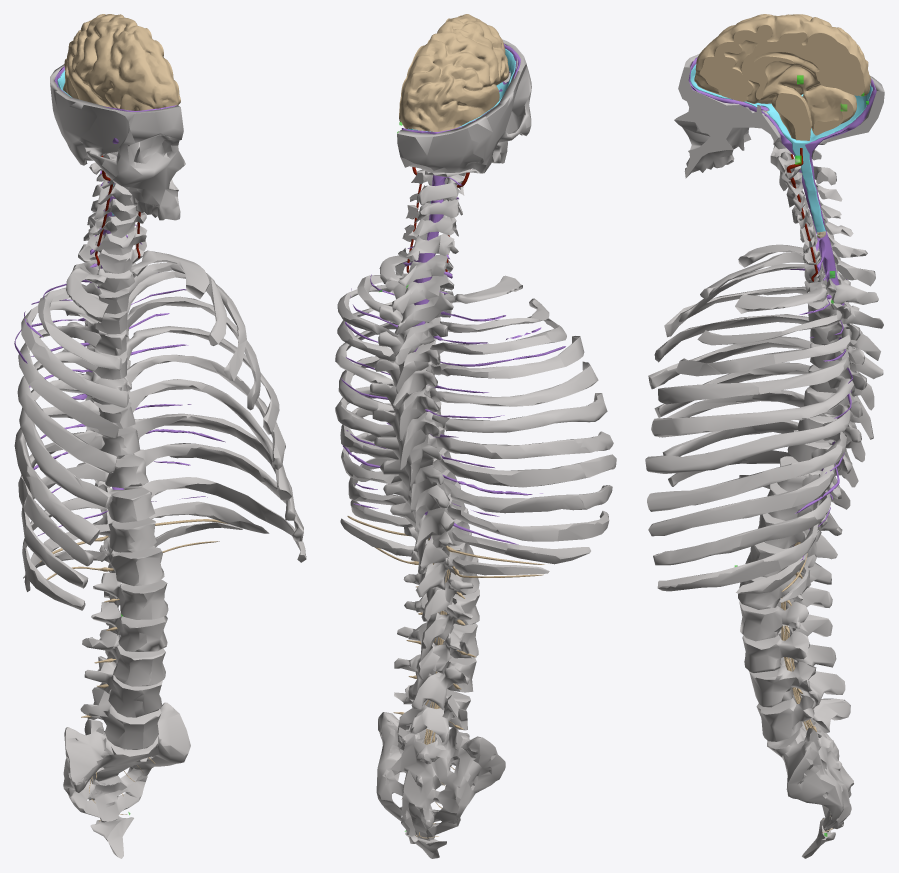
The model's file is spinal-cord.glb.
3 renders of one model, left to right at view 1: azimuth 30°, elevation 25°; view 2: azimuth 150°, elevation 25°; view 3: azimuth 270°, elevation 25°, orthographic. The views are drawn at different scales.
Parts seen in each view (by area): view 1: udambu; view 2: udambu; view 3: udambu.
Boxes of the visible parts, bbox=[...] form: udambu: bbox=[14, 14, 306, 858]; udambu: bbox=[335, 14, 616, 858]; udambu: bbox=[645, 14, 884, 858].
Bounding box in the file's own units: 0.3688 × 1.2 × 0.3102.
